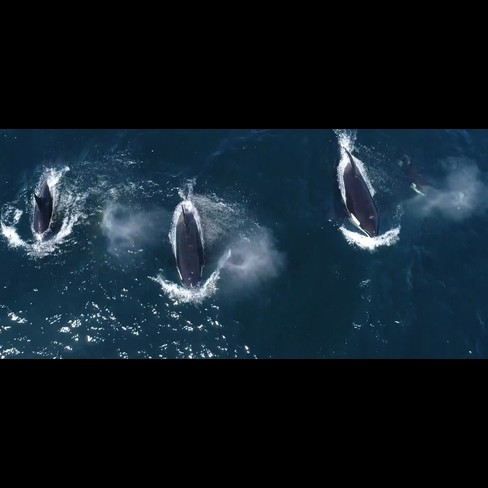orca: (327, 129, 390, 249), (164, 174, 216, 293), (26, 161, 66, 247)
